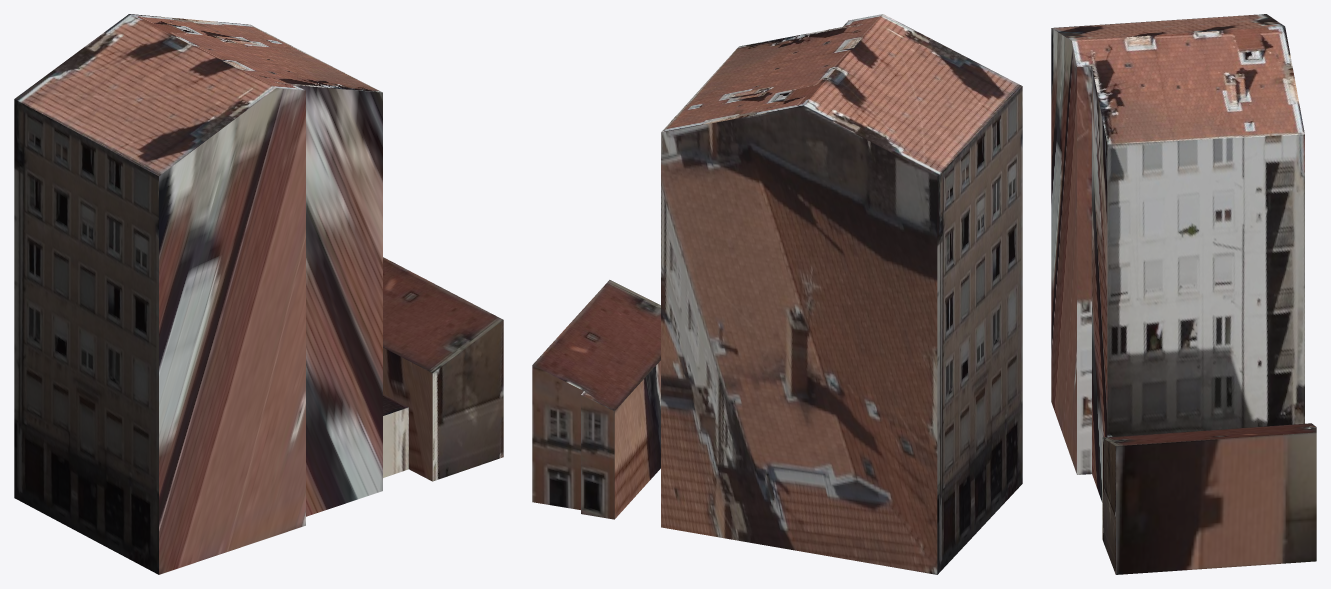
The picture shows the model from 3 angles, left to right: view 1: azimuth 30°, elevation 25°; view 2: azimuth 150°, elevation 25°; view 3: azimuth 270°, elevation 25°; orthographic projection. The views are drawn at different scales.
Visible parts, largest first — view 1: Z_UP; view 2: Z_UP; view 3: Z_UP.
Boxes of the visible parts, bbox=[...] form: Z_UP: bbox=[14, 14, 503, 574]; Z_UP: bbox=[532, 14, 1022, 574]; Z_UP: bbox=[1051, 14, 1316, 574].
Bounding box in the file's own units: 25.68 × 26.86 × 15.42.
2 materials, 1 textured.
